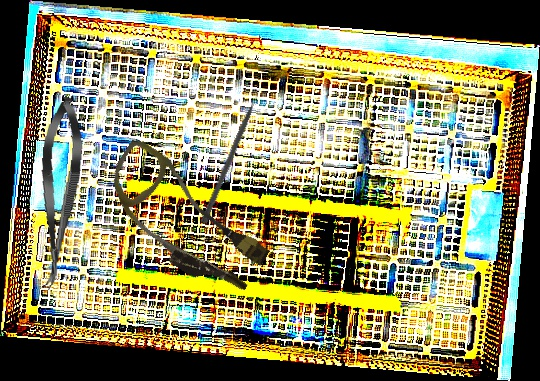Cannula: (87, 136, 283, 305)
Micro Scissor: (31, 95, 87, 292)
Pusher: (200, 85, 265, 225)
